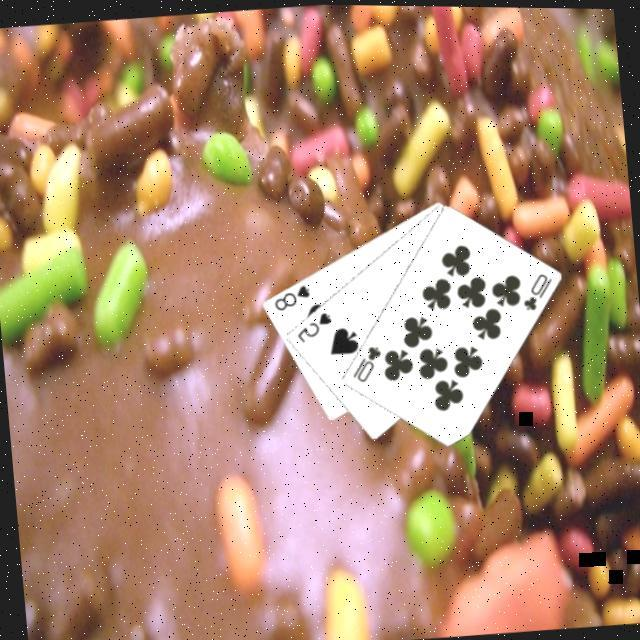10C: (517, 265, 558, 311), (347, 338, 388, 383)
5S: (292, 303, 337, 343)
8S: (270, 277, 314, 312)
